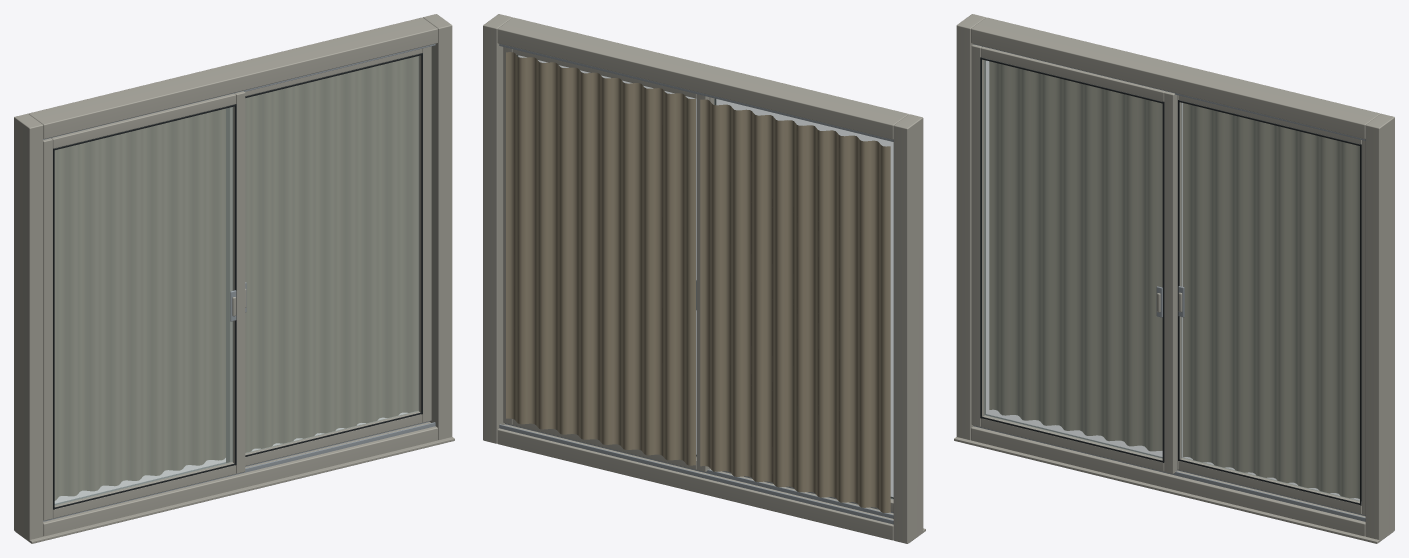
The model's file is janela_sobrado_fachada.glb.
3 renders of one model, left to right at view 1: azimuth 30°, elevation 25°; view 2: azimuth 150°, elevation 25°; view 3: azimuth 330°, elevation 25°, orthographic.
Parts seen in each view (by area): view 1: Vidro da folha 1, Vidro da folha 2, Cortina direita, Cortina esquerda, Batente lateral, Travessa do marco.001, Batente lateral.001, Travessa do marco, Montante da folha 2.001, Montante da folha 1.001, Montante da folha 1, Montante da folha 2 (+10 smaller); view 2: Cortina esquerda, Cortina direita, Batente lateral, Travessa do marco.001, Batente lateral.001, Travessa do marco, Vidro da folha 1, Montante da folha 2, Trilho da janela.004, Montante da folha 2.001, Trilho da janela.002, Trilho da janela.005 (+2 smaller); view 3: Vidro da folha 2, Vidro da folha 1, Cortina direita, Cortina esquerda, Batente lateral.001, Travessa do marco.001, Batente lateral, Travessa do marco, Montante da folha 1.001, Montante da folha 1, Travessa da folha 2, Travessa da folha 1 (+11 smaller).
Part boxes in pixels (<box>): Vidro da folha 1: <box>54,107,233,505</box>; Vidro da folha 2: <box>245,56,419,453</box>; Cortina direita: <box>245,56,418,452</box>; Cortina esquerda: <box>54,108,225,500</box>; Batente lateral: <box>14,113,43,540</box>; Travessa do marco.001: <box>28,17,437,139</box>; Batente lateral.001: <box>423,14,452,440</box>; Travessa do marco: <box>43,422,437,536</box>; Montante da folha 2.001: <box>418,46,431,422</box>; Montante da folha 1.001: <box>232,91,245,473</box>; Montante da folha 1: <box>43,138,52,520</box>; Montante da folha 2: <box>226,107,232,462</box>; Cortina esquerda: <box>700,99,890,512</box>; Cortina direita: <box>506,52,695,465</box>; Batente lateral: <box>893,114,923,543</box>; Travessa do marco.001: <box>497,17,908,139</box>; Batente lateral.001: <box>483,14,512,443</box>; Travessa do marco: <box>497,424,893,540</box>; Vidro da folha 1: <box>714,98,893,499</box>; Montante da folha 2: <box>696,94,709,471</box>; Trilho da janela.004: <box>499,424,893,524</box>; Montante da folha 2.001: <box>503,47,512,424</box>; Trilho da janela.002: <box>505,423,893,518</box>; Trilho da janela.005: <box>499,44,893,141</box>; Vidro da folha 2: <box>1181,103,1361,501</box>; Vidro da folha 1: <box>984,60,1162,458</box>; Cortina direita: <box>1183,103,1361,500</box>; Cortina esquerda: <box>989,61,1162,451</box>; Batente lateral.001: <box>1365,113,1394,539</box>; Travessa do marco.001: <box>971,17,1380,139</box>; Batente lateral: <box>956,14,985,440</box>; Travessa do marco: <box>971,426,1365,536</box>; Montante da folha 1.001: <box>1164,91,1177,473</box>; Montante da folha 1: <box>971,44,984,426</box>; Travessa da folha 2: <box>1178,458,1361,514</box>; Travessa da folha 1: <box>981,415,1164,471</box>.
Bounding box in the file's own units: 1.54 × 1.44 × 0.115.
